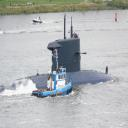submarine: (1, 15, 122, 94)
